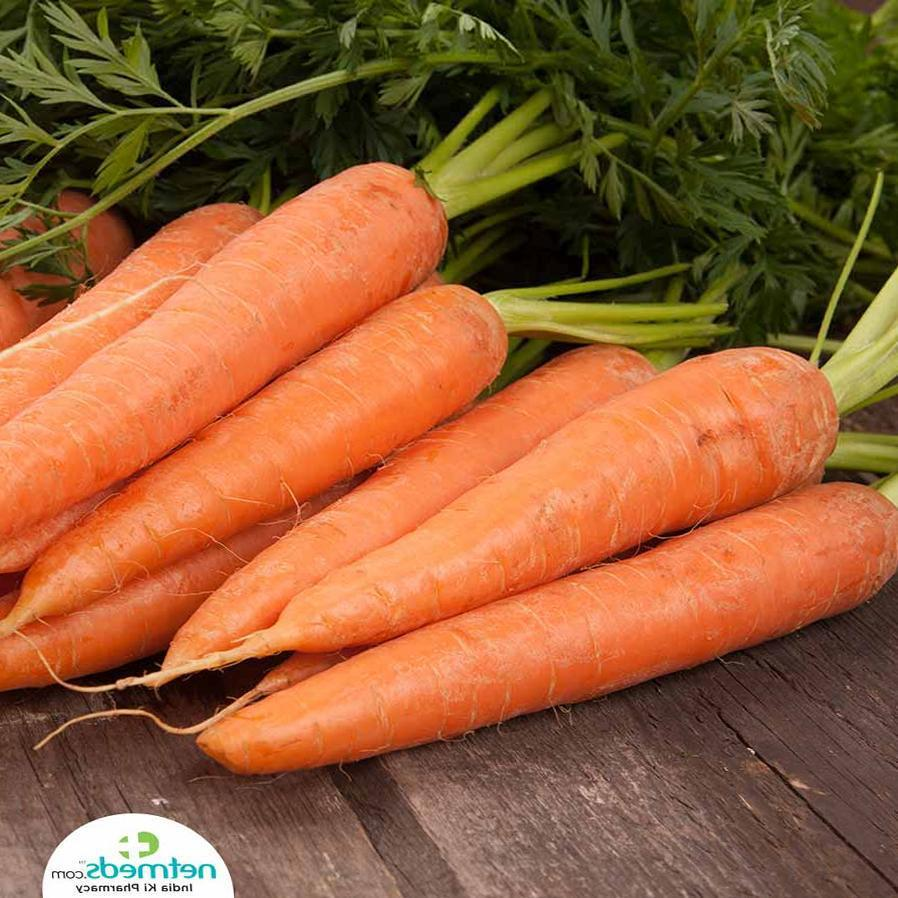carrot: (1, 151, 894, 753), (0, 330, 898, 764)
